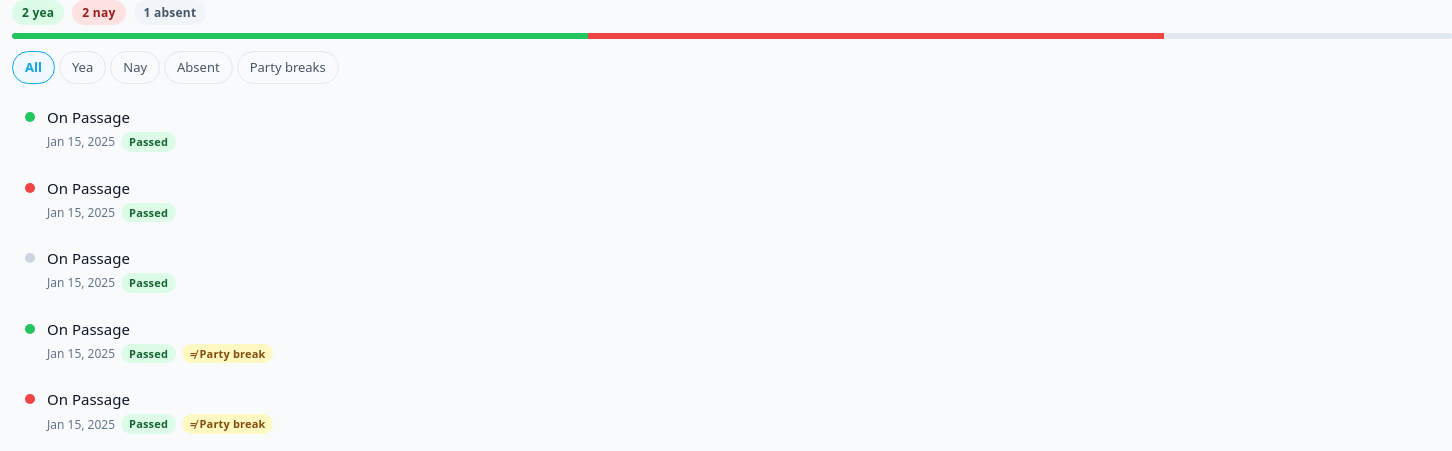
VoteList — filter logic › shows only absent votes when the "Absent" filter is active
Click the tab "Absent": click(198, 68) x1=164 y1=51 x2=233 y2=84
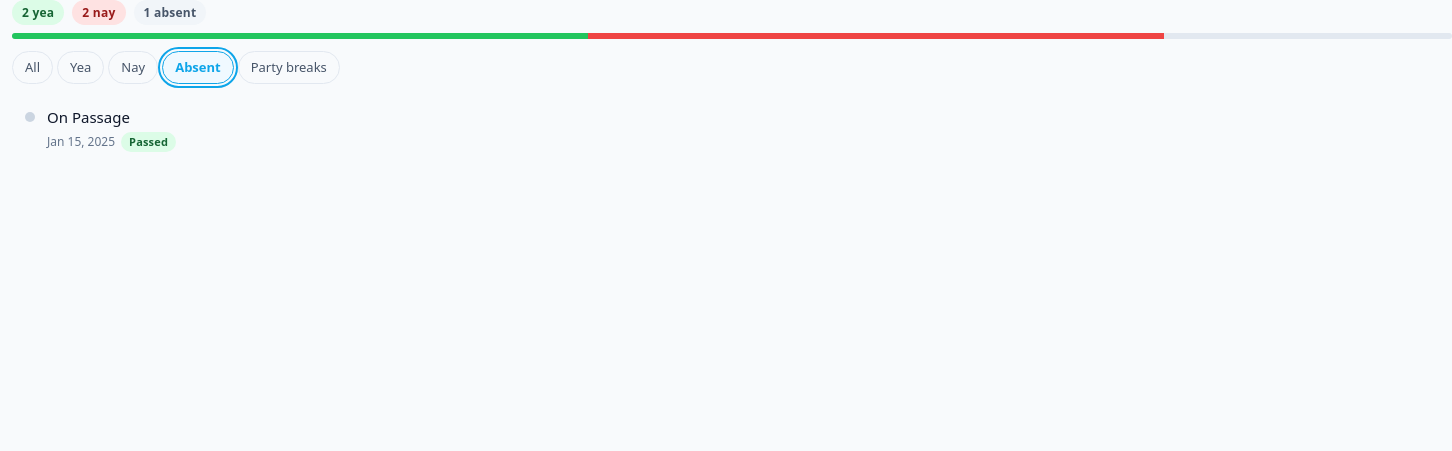
expect the number of list items is 1: met, box x1=25 y1=107 x2=176 y2=152
